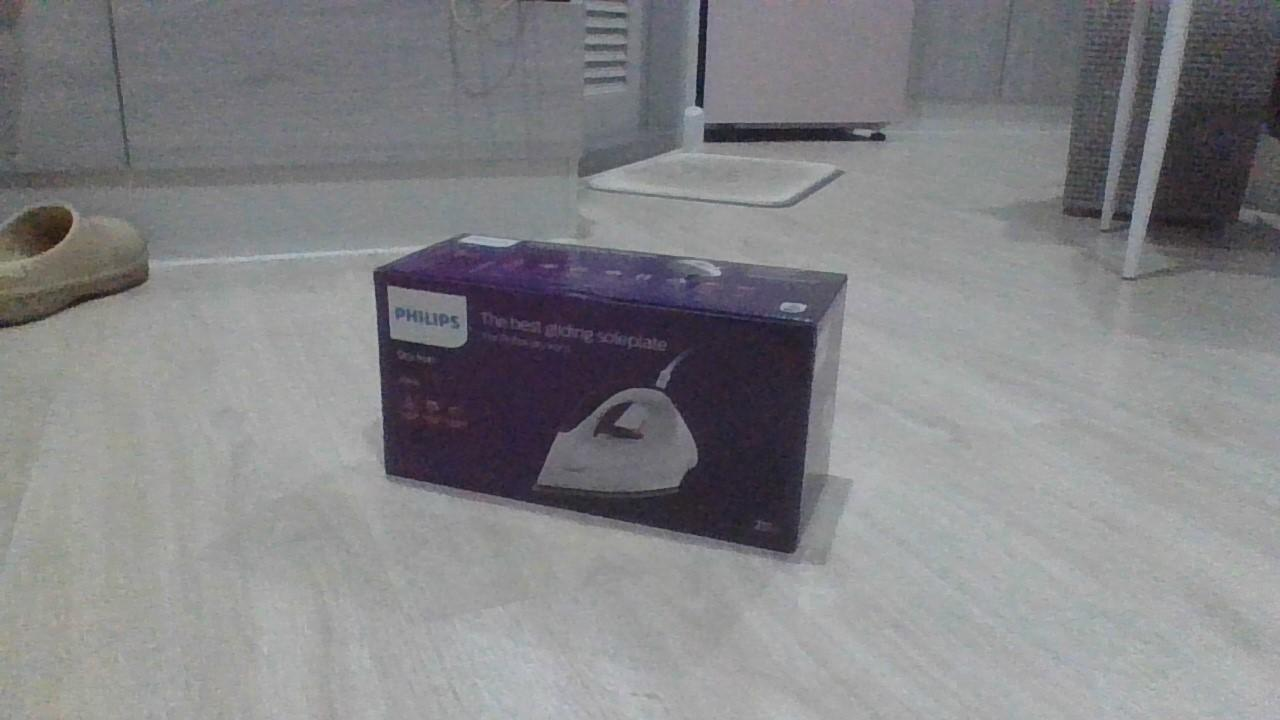IRON: (367, 228, 852, 562)
